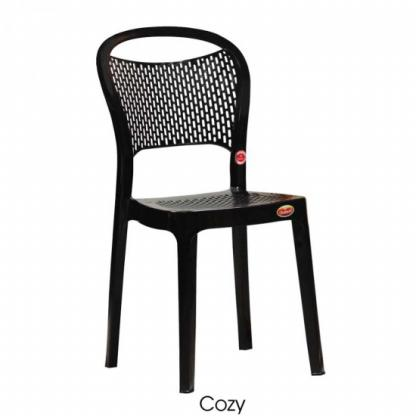chair: (96, 26, 339, 395)
